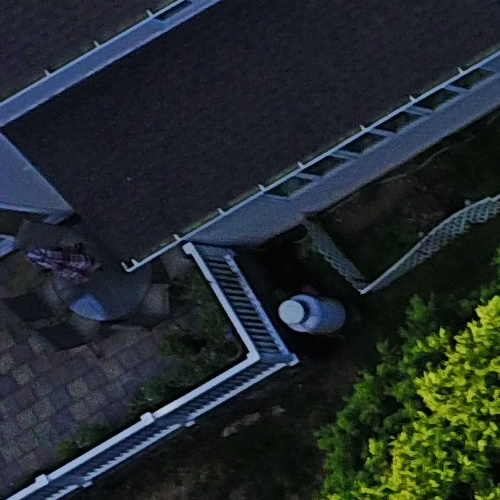porch: (1, 196, 333, 494)
